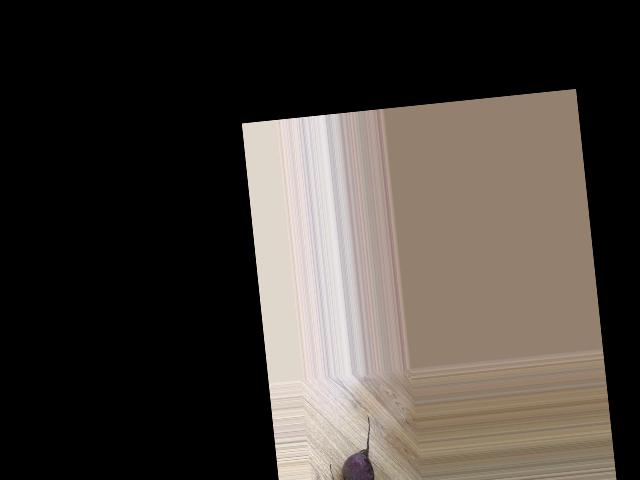beet: (325, 415, 378, 480)
